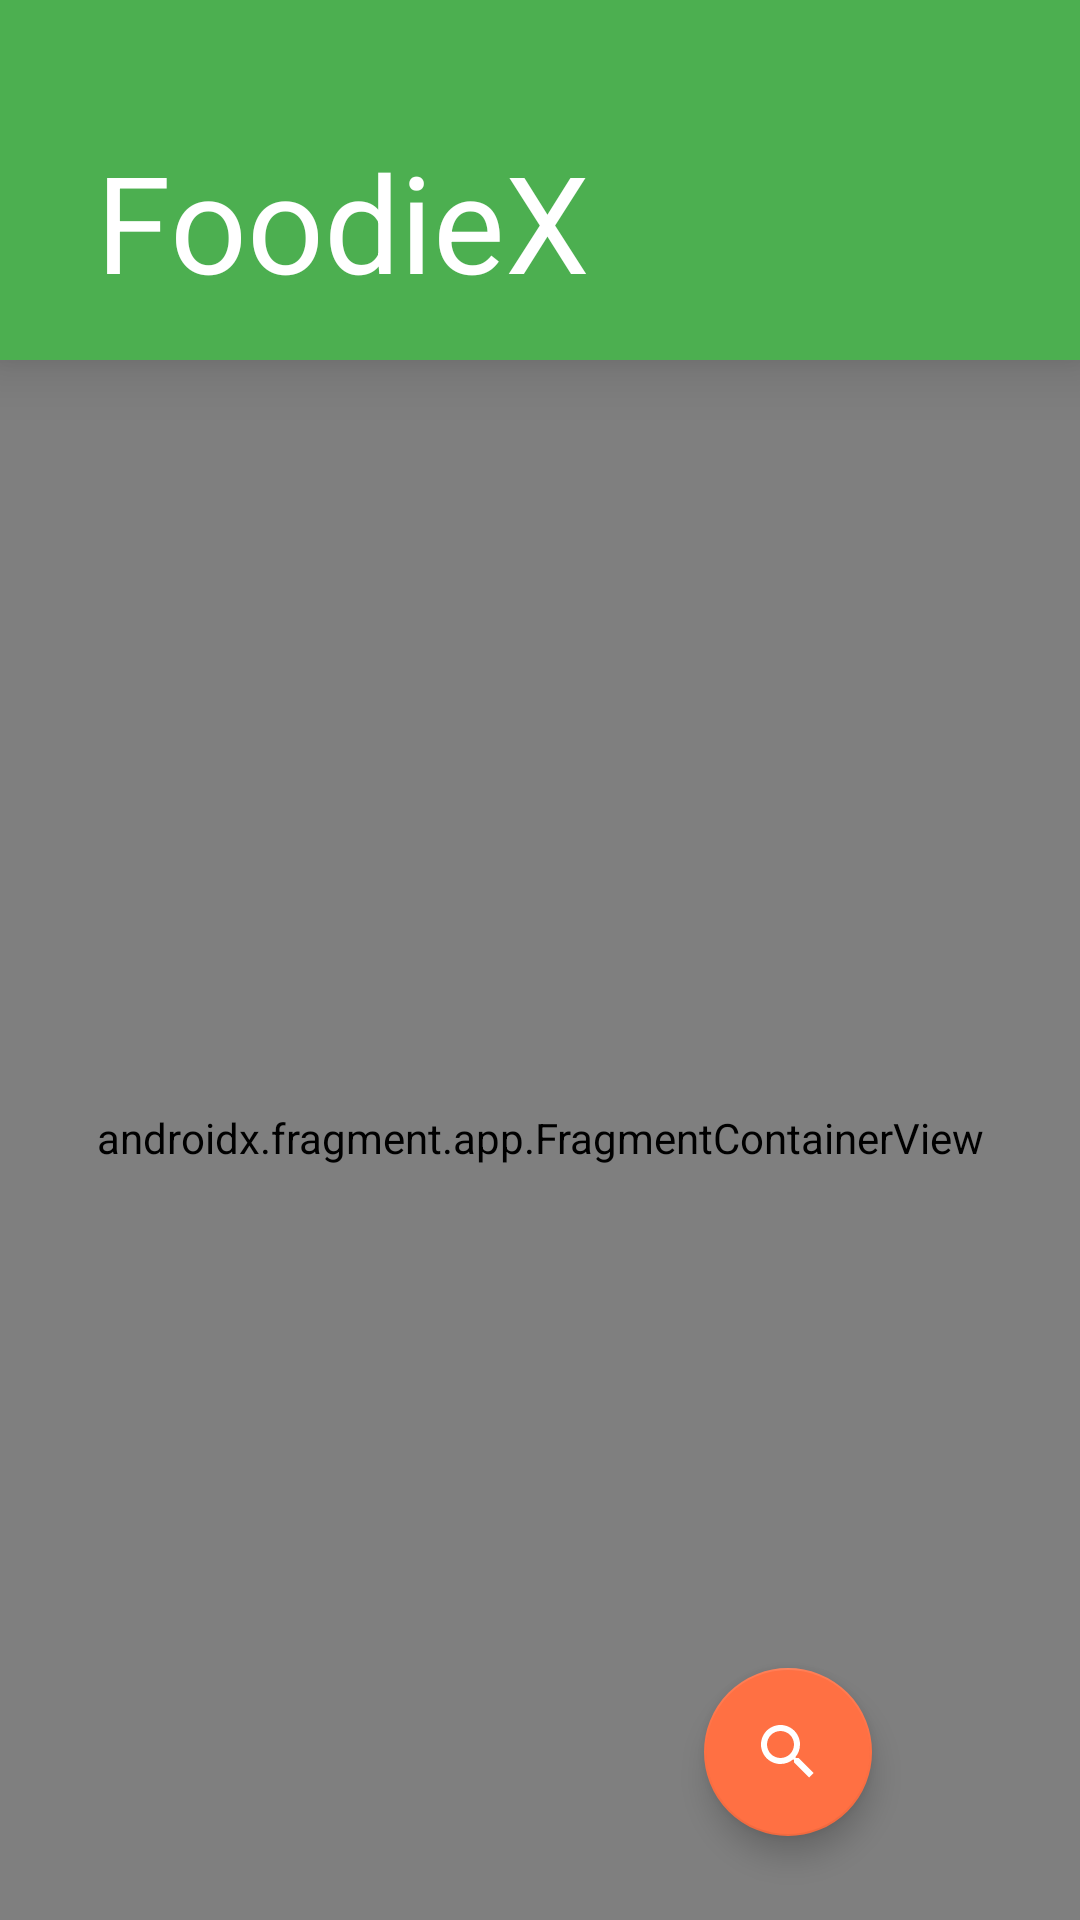

Named icons in this screenshot (1080 × 1920) and their bounding boxes, (x1, y1, x2, y2):
Search recipes: (704, 1668, 872, 1836)
